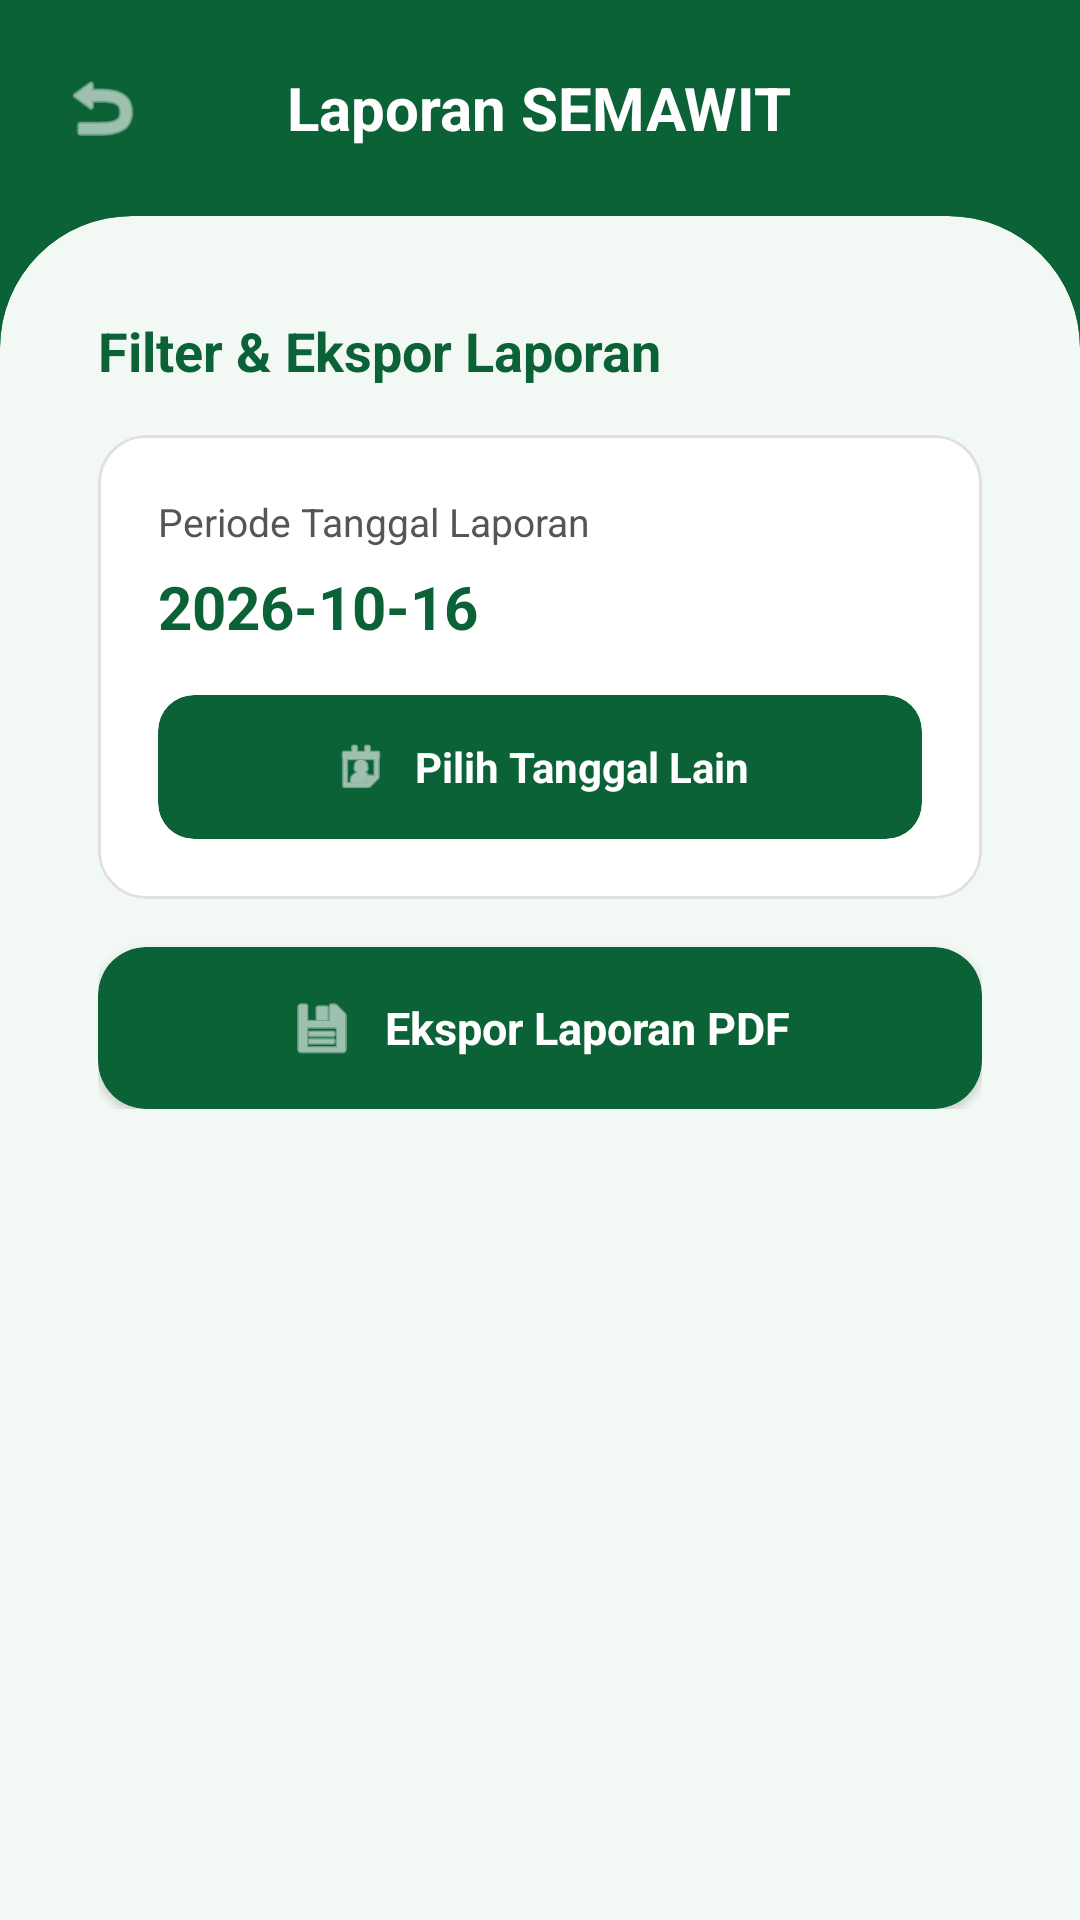

Icon bounding boxes for this 1080*1920 phone screenshot, format bbox=[x1, y1, x2, y2]:
calendar: bbox=[341, 744, 381, 788]
revert: bbox=[73, 81, 134, 136]
save: bbox=[297, 1003, 347, 1054]
